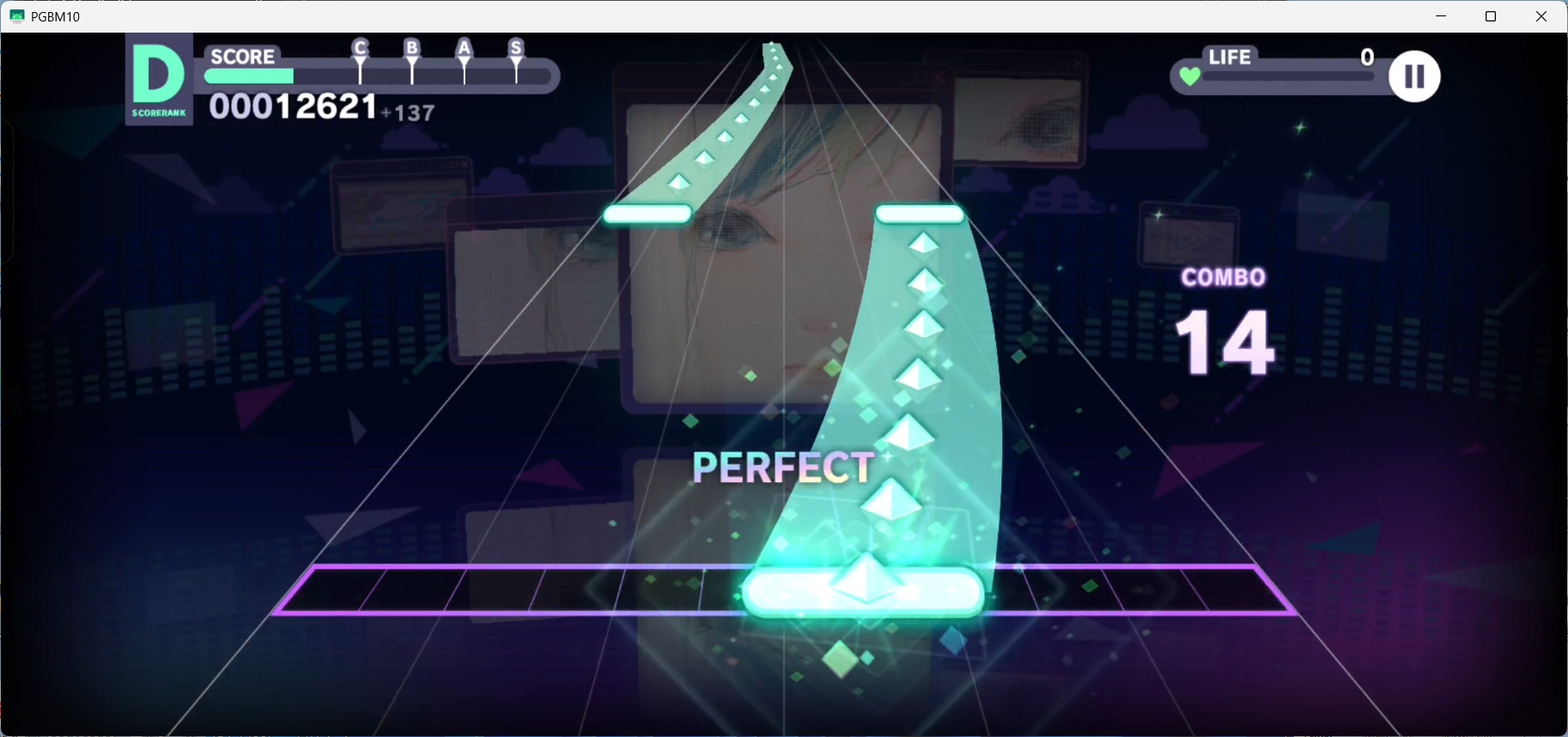hold: (756, 219, 1002, 569), (617, 43, 793, 205)
sweep: (831, 551, 899, 607), (861, 478, 921, 535), (884, 414, 934, 467), (896, 359, 942, 404), (903, 311, 944, 350), (908, 269, 945, 302), (909, 233, 939, 262), (667, 174, 690, 197), (694, 150, 714, 172), (717, 130, 733, 148), (734, 113, 749, 127), (749, 98, 761, 109), (759, 85, 770, 94), (769, 74, 779, 83), (775, 63, 783, 71), (773, 55, 779, 61), (770, 47, 776, 53), (769, 41, 774, 45)
tap: (742, 570, 985, 619), (877, 203, 963, 224), (604, 205, 690, 224)
